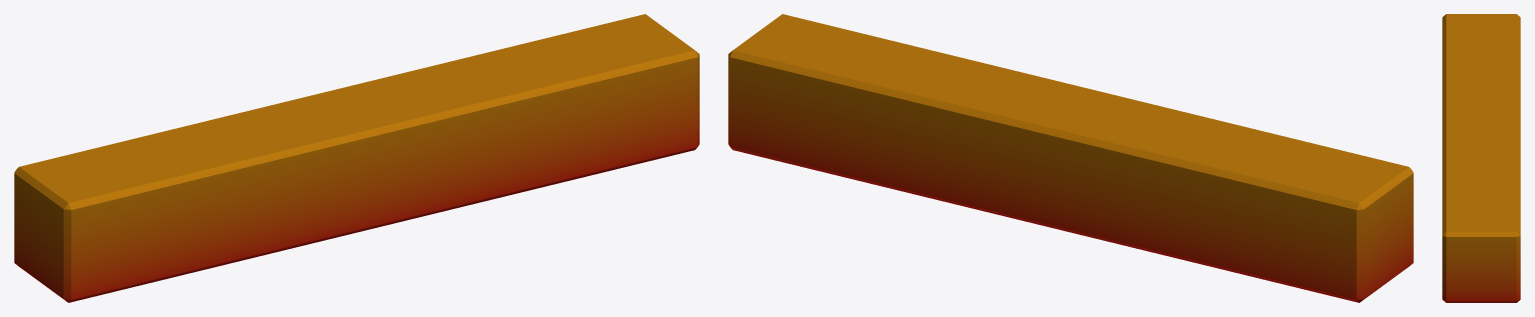
Rendered from lintel.glb.
The picture shows the model from 3 angles, left to right: view 1: azimuth 30°, elevation 25°; view 2: azimuth 150°, elevation 25°; view 3: azimuth 270°, elevation 25°; orthographic projection. The views are drawn at different scales.
Visible parts, largest first — view 1: lintel; view 2: lintel; view 3: lintel.
Part boxes in pixels (bbox=[...]): lintel: bbox=[14, 14, 699, 302]; lintel: bbox=[728, 14, 1413, 302]; lintel: bbox=[1442, 14, 1520, 302].
Size of what is drawn, in the model's own units: 4 by 0.6 by 0.6.
